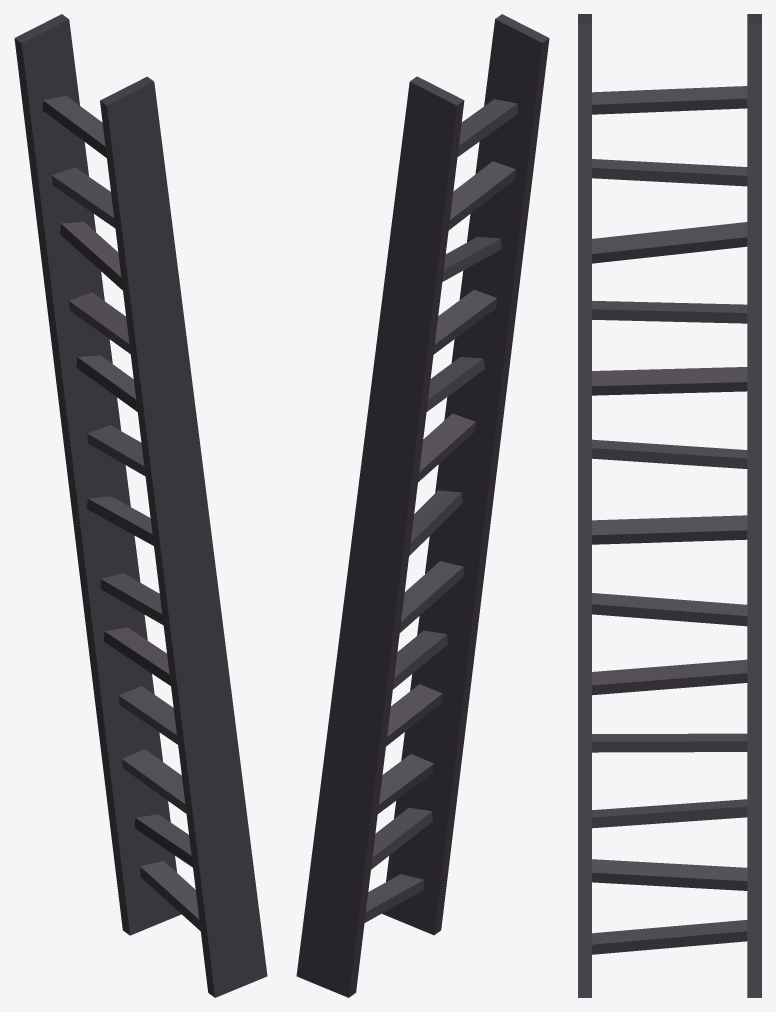
File: Stairs_B2.fbx
3 renders of one model, left to right at view 1: azimuth 30°, elevation 25°; view 2: azimuth 150°, elevation 25°; view 3: azimuth 270°, elevation 25°, orthographic.
Parts seen in each view (by area): view 1: Stairs_B2; view 2: Stairs_B2; view 3: Stairs_B2.
Boxes of the visible parts, <box> form: Stairs_B2: <box>14,14,267,997</box>; Stairs_B2: <box>296,14,549,997</box>; Stairs_B2: <box>578,14,761,997</box>.
Bounding box in the file's own units: 72.38 × 401 × 72.1.
Materials: 1 (1 with a texture image).
